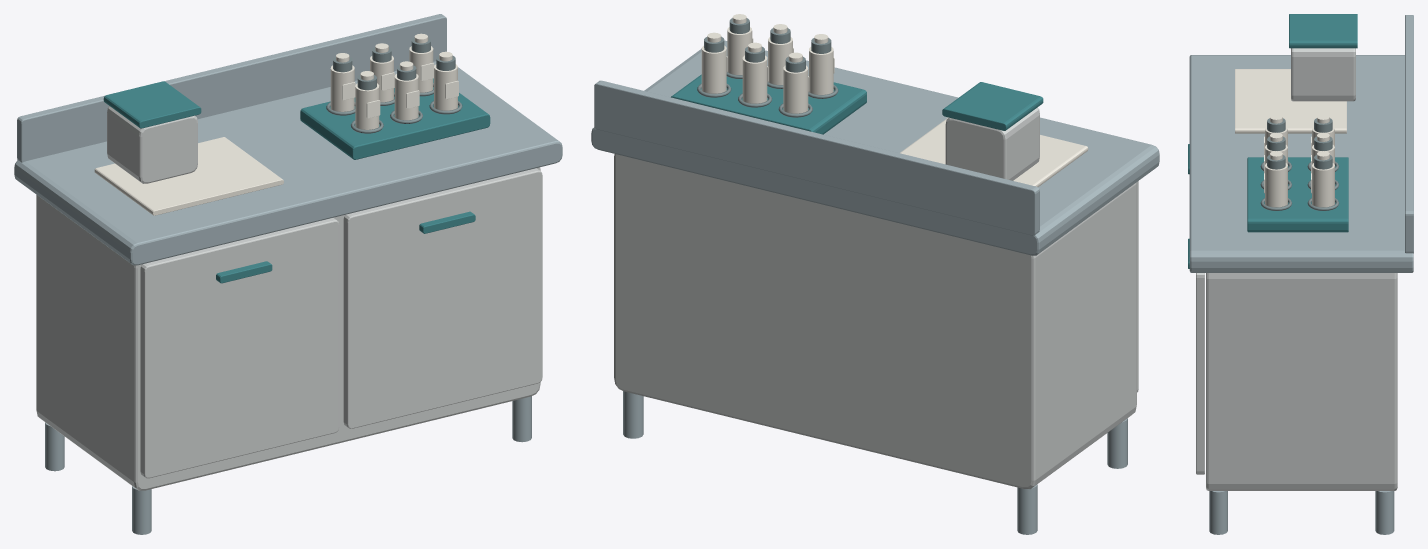
Rendered from milk-preparation-counter.glb.
The picture shows the model from 3 angles, left to right: view 1: azimuth 30°, elevation 25°; view 2: azimuth 150°, elevation 25°; view 3: azimuth 270°, elevation 25°; orthographic projection. The views are drawn at different scales.
Visible parts, largest first — view 1: milk-preparation-counter-batch (×6); view 2: milk-preparation-counter-batch (×5); view 3: milk-preparation-counter-batch (×5).
Boxes of the visible parts, box(x1,y1,x2,y2) form: milk-preparation-counter-batch (×6): box(14, 14, 562, 534); milk-preparation-counter-batch (×5): box(591, 14, 1159, 534); milk-preparation-counter-batch (×5): box(1188, 14, 1413, 534).
Bounding box in the file's own units: 1.32 × 1.09 × 0.625.
